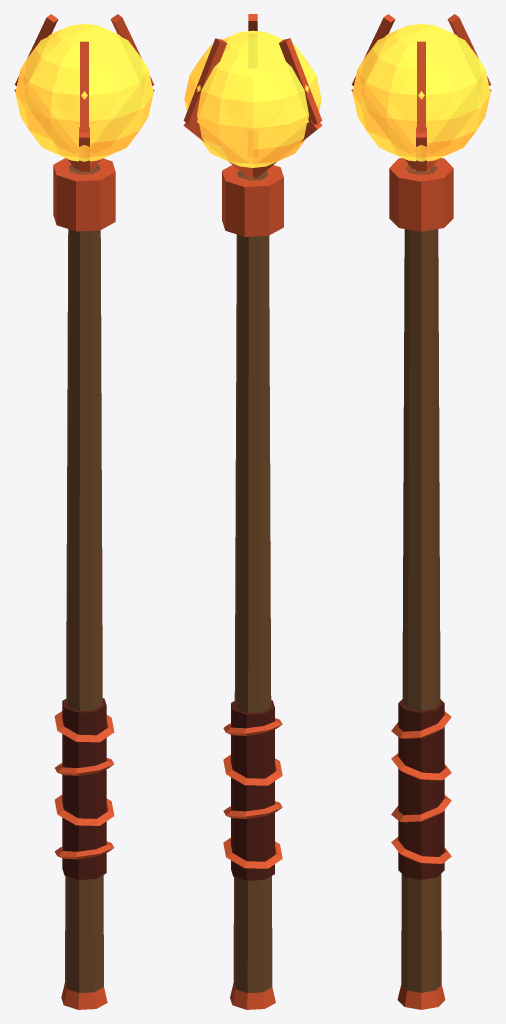
The model's file is weapon_staff_ember_v01.glb.
The picture shows the model from 3 angles, left to right: view 1: azimuth 30°, elevation 25°; view 2: azimuth 210°, elevation 25°; view 3: azimuth 270°, elevation 25°; orthographic projection.
Visible parts, largest first — view 1: weapon_staff_ember; view 2: weapon_staff_ember; view 3: weapon_staff_ember.
Part boxes in pixels (x1,y1,x2,y2): weapon_staff_ember: [14, 14, 154, 1009]; weapon_staff_ember: [183, 14, 322, 1009]; weapon_staff_ember: [351, 14, 491, 1009].
Bounding box in the file's own units: 0.1596 × 1.17 × 0.1519.
